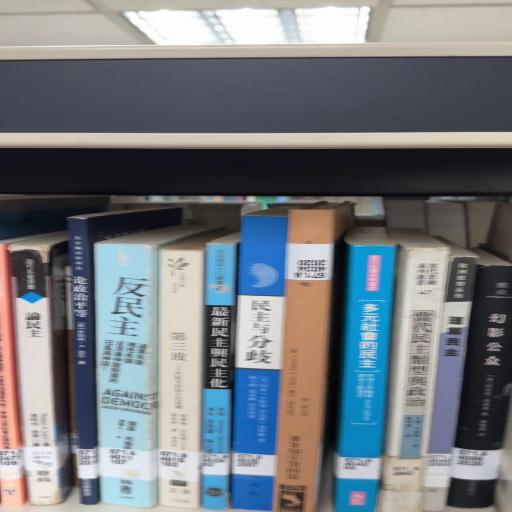reverse: (273, 203, 354, 512)
